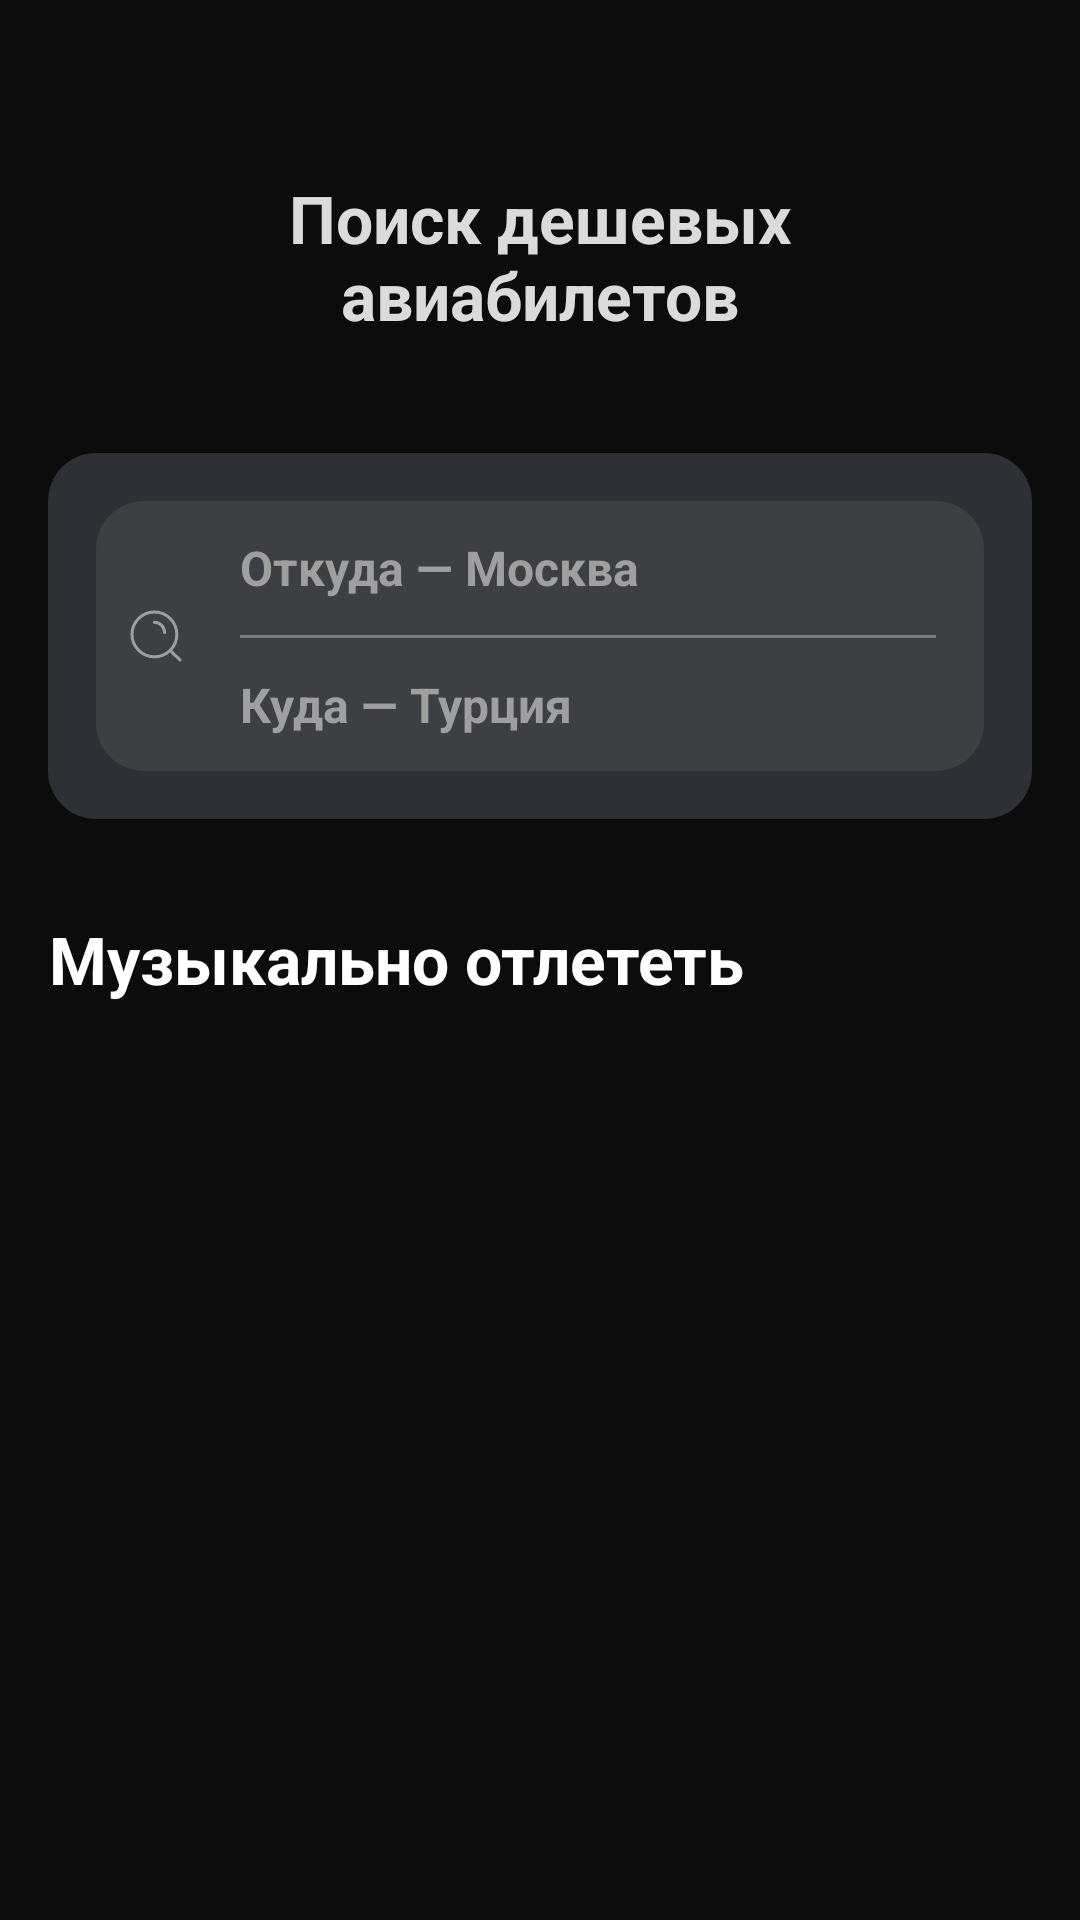

Where icons sit on this 1080×1920 app screen, as (x1, y1, x2, y2):
Значок поиска: (130, 610, 182, 662)
